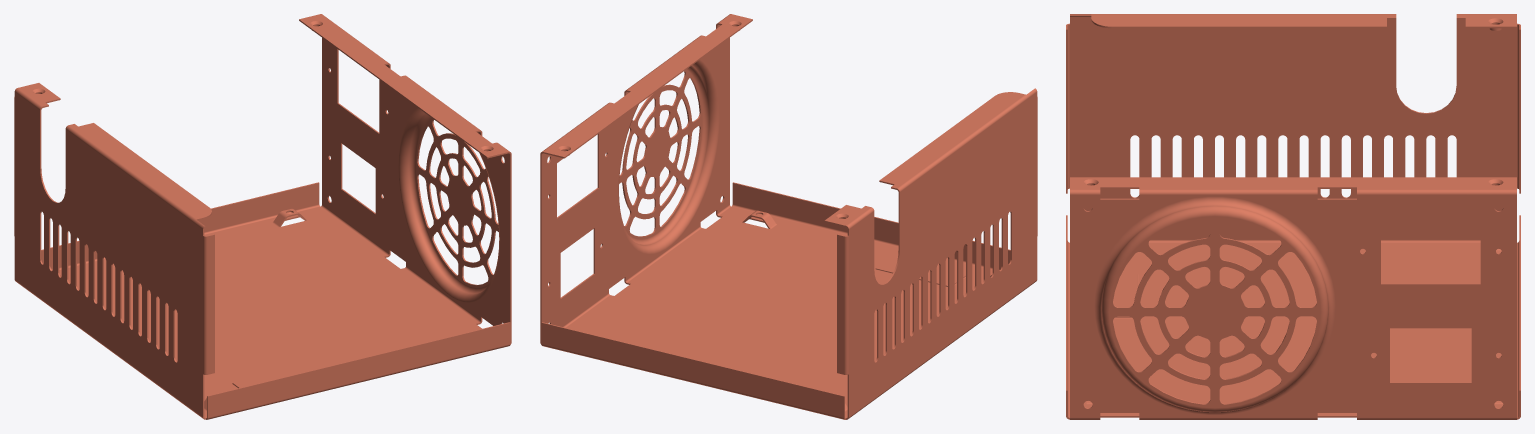
File: Electrical_Box.glb
3 views of the same model, side by side, from view 1: azimuth 30°, elevation 25°; view 2: azimuth 150°, elevation 25°; view 3: azimuth 270°, elevation 25° (orthographic). The views are drawn at different scales.
Parts seen in each view (by area): view 1: ELECTRICAL BOX; view 2: ELECTRICAL BOX; view 3: ELECTRICAL BOX.
Part boxes in pixels (<box>): ELECTRICAL BOX: <box>14,14,511,419</box>; ELECTRICAL BOX: <box>540,14,1037,419</box>; ELECTRICAL BOX: <box>1066,14,1520,419</box>.
Size of the model in its own units: 0.145 by 0.084 by 0.1507.
